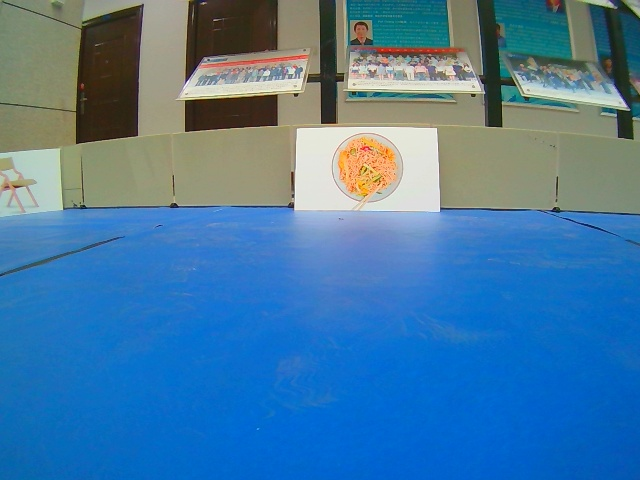food: (295, 128, 443, 213)
